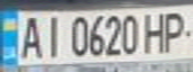0: (66, 12, 90, 57), (121, 11, 142, 55)
2: (103, 11, 124, 57)
6: (87, 12, 109, 57)
A: (15, 12, 45, 60)
H: (139, 9, 172, 54)
I: (39, 12, 66, 60)
P: (157, 8, 193, 54)
